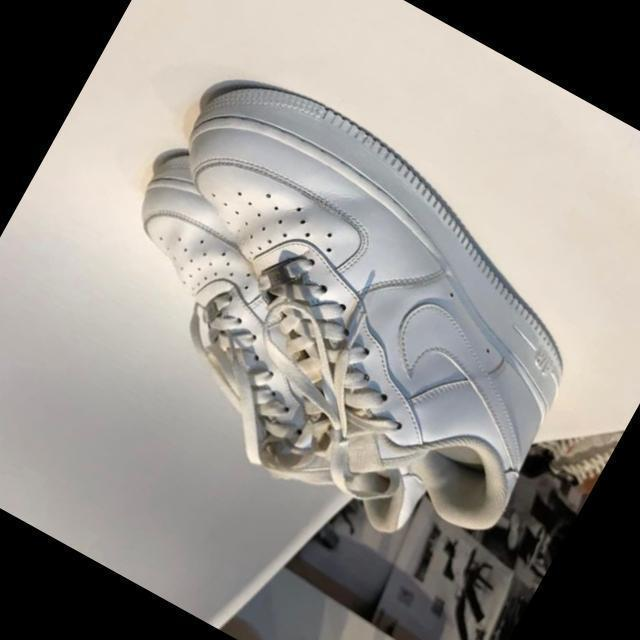nike original air force: (76, 79, 618, 544)
